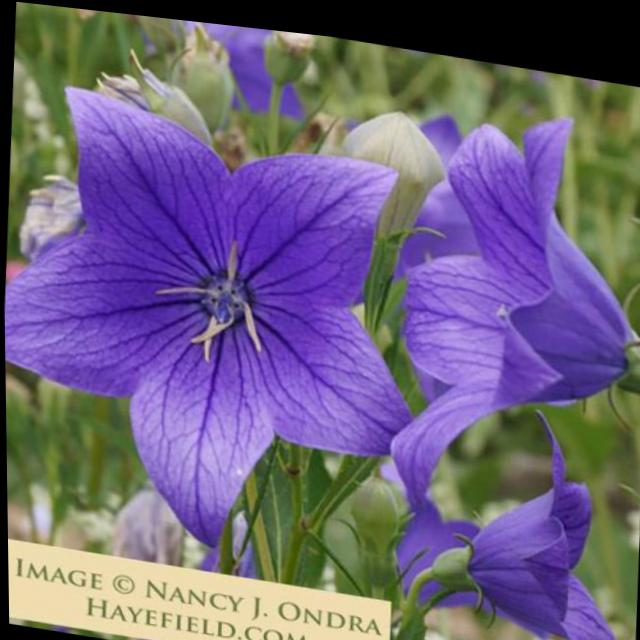Flower: (1, 73, 442, 558), (376, 74, 640, 414), (416, 383, 627, 640)
